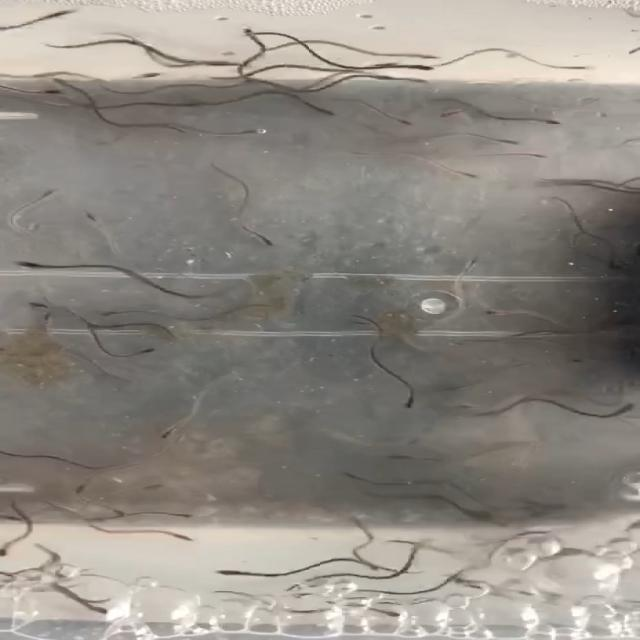active_glass_eel: (522, 112, 572, 134), (435, 160, 482, 182), (48, 73, 89, 94), (18, 298, 60, 318), (28, 182, 58, 208), (401, 48, 451, 63), (8, 256, 54, 272), (245, 228, 278, 250), (373, 73, 424, 87), (41, 4, 83, 20), (76, 209, 115, 226), (122, 342, 171, 355), (566, 351, 597, 371), (239, 26, 267, 48), (568, 61, 609, 76), (478, 302, 521, 316), (218, 126, 263, 139), (338, 64, 383, 77), (152, 424, 184, 442), (367, 604, 408, 618), (453, 254, 483, 273), (401, 391, 429, 411), (521, 146, 564, 159), (489, 130, 521, 147), (96, 307, 130, 323), (30, 84, 66, 99), (437, 107, 467, 124), (129, 68, 164, 82), (72, 479, 96, 498), (311, 103, 341, 118), (381, 450, 412, 464), (215, 567, 251, 579), (359, 556, 383, 574), (395, 62, 437, 72), (140, 480, 168, 494), (395, 117, 427, 129), (169, 511, 197, 524), (102, 508, 132, 519), (170, 534, 194, 546), (0, 543, 13, 560)
